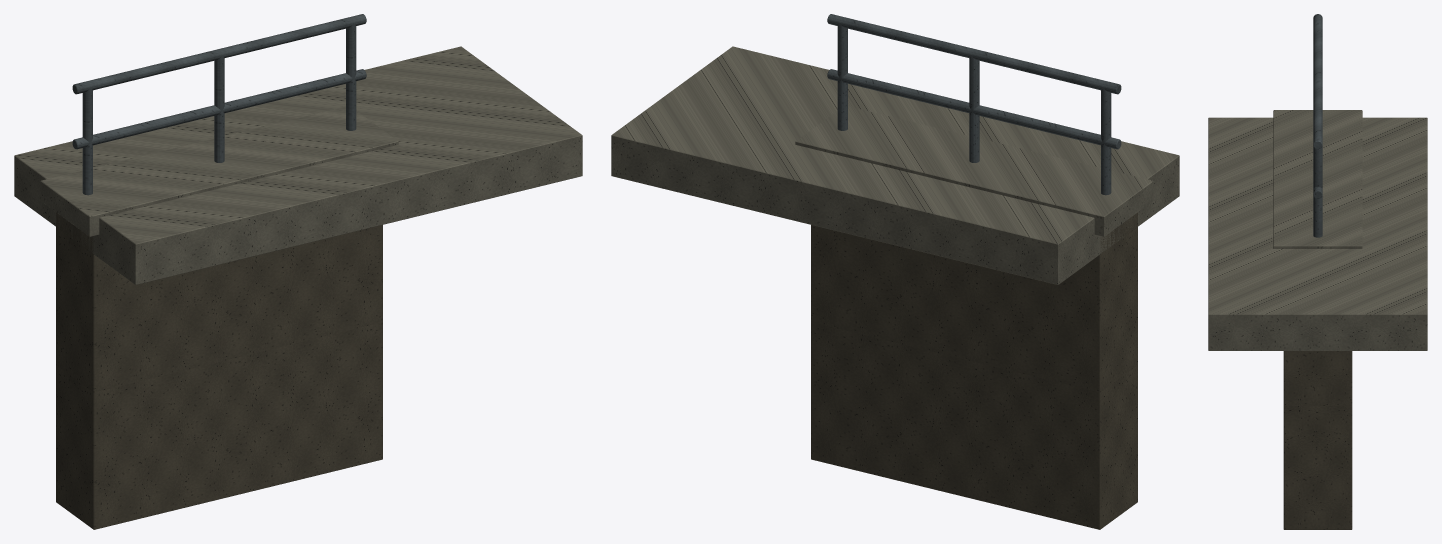
Rendered from PROP-D6C6B12E97F6_lod1.glb.
The picture shows the model from 3 angles, left to right: view 1: azimuth 30°, elevation 25°; view 2: azimuth 150°, elevation 25°; view 3: azimuth 270°, elevation 25°; orthographic projection. The views are drawn at different scales.
Parts seen in each view (by area): view 1: masonry_support.001, cantilever_deck.001, coping.001, railing_rails.001, railing_posts.001; view 2: masonry_support.001, cantilever_deck.001, coping.001, railing_rails.001, railing_posts.001; view 3: cantilever_deck.001, masonry_support.001, coping.001, railing_rails.001, railing_posts.001.
Part boxes in pixels (x1,y1,x2,y2): masonry_support.001: (56, 212, 382, 529); cantilever_deck.001: (14, 46, 582, 284); coping.001: (40, 106, 398, 236); railing_rails.001: (72, 14, 366, 149); railing_posts.001: (82, 24, 356, 195); masonry_support.001: (811, 212, 1137, 529); cantilever_deck.001: (611, 46, 1179, 284); coping.001: (795, 106, 1153, 236); railing_rails.001: (827, 14, 1121, 149); railing_posts.001: (837, 24, 1111, 195); cantilever_deck.001: (1208, 117, 1427, 350); masonry_support.001: (1283, 351, 1352, 529); coping.001: (1273, 110, 1362, 248); railing_rails.001: (1313, 14, 1322, 198); railing_posts.001: (1313, 146, 1322, 237).
Size of the model in its own units: 3.48 by 3.13 by 1.6.
Materials: 3 (3 with a texture image).
